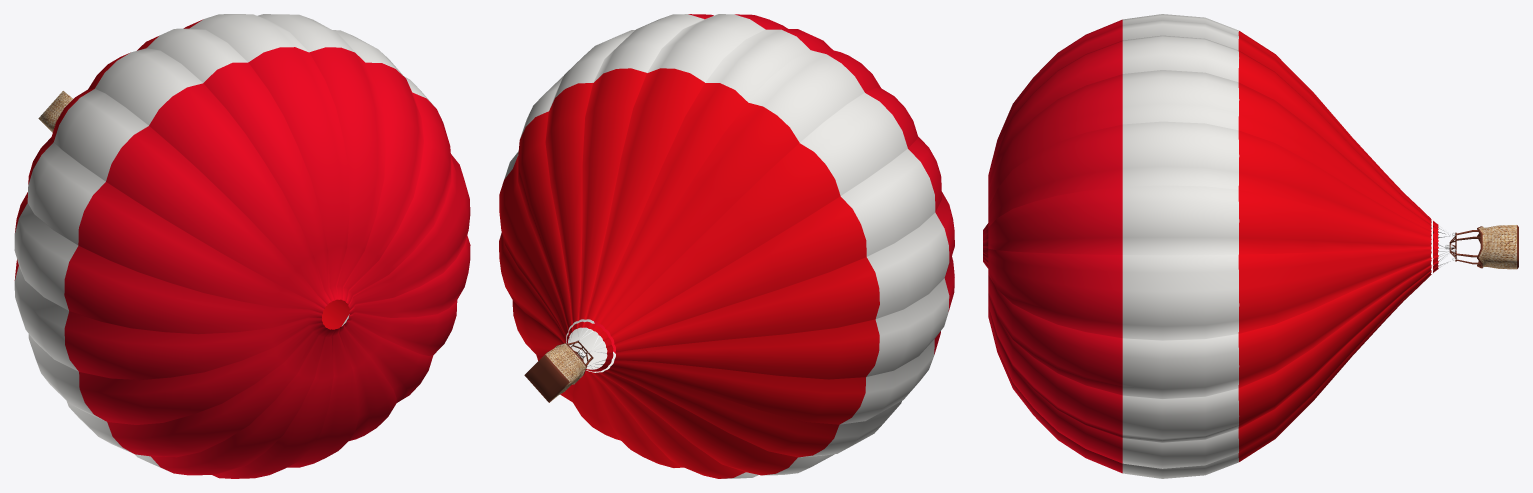
Rendered from baloonAustria.glb.
3 views of the same model, side by side, from view 1: azimuth 30°, elevation 25°; view 2: azimuth 150°, elevation 25°; view 3: azimuth 270°, elevation 25° (orthographic). The views are drawn at different scales.
Parts seen in each view (by area): view 1: Circle, Cube; view 2: Circle, Cube; view 3: Circle, Cube.
Boxes of the visible parts, left/top/right/bottom form: Circle: left=14, top=14, right=470, bottom=478; Cube: left=38, top=91, right=73, bottom=132; Circle: left=499, top=14, right=954, bottom=478; Cube: left=524, top=343, right=586, bottom=402; Circle: left=983, top=14, right=1438, bottom=478; Cube: left=1477, top=225, right=1518, bottom=269.
Bounding box in the file's own units: 18.09 × 18.16 × 21.04.
9 materials, 1 textured.
